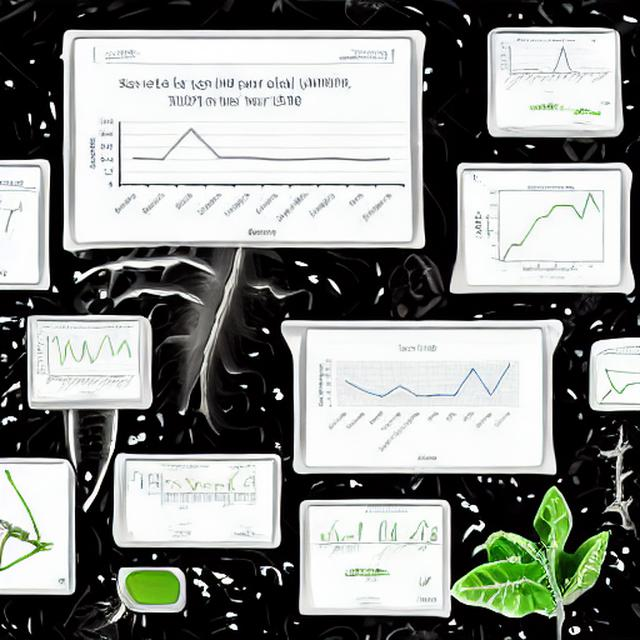Graph: (80, 69, 408, 238), (310, 337, 525, 468), (482, 175, 617, 276), (36, 325, 136, 395), (496, 36, 590, 97), (146, 464, 214, 512)
